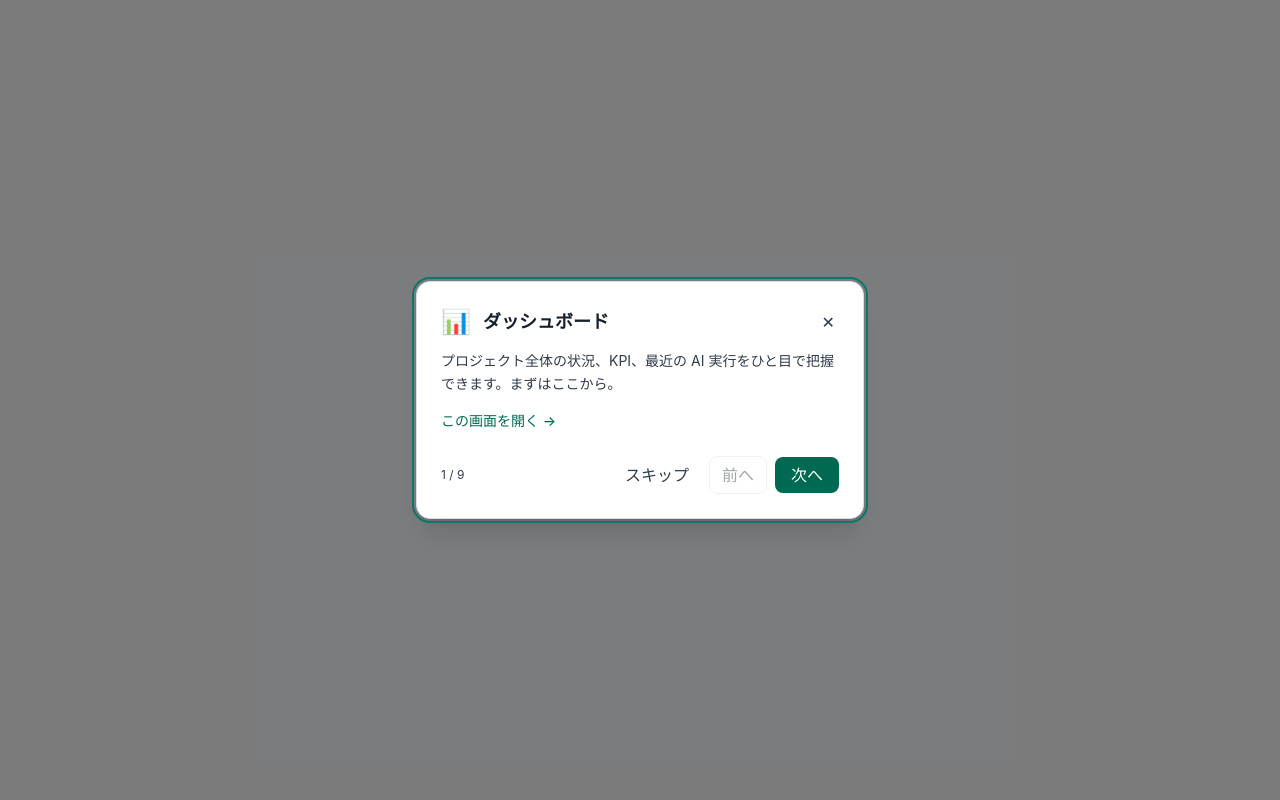
Test case: FeatureTour › 次へ/前へでステップを移動する
This screenshot has width=1280, height=800.
Click the button "次へ".
click(807, 475)  # box [775,457,839,493]
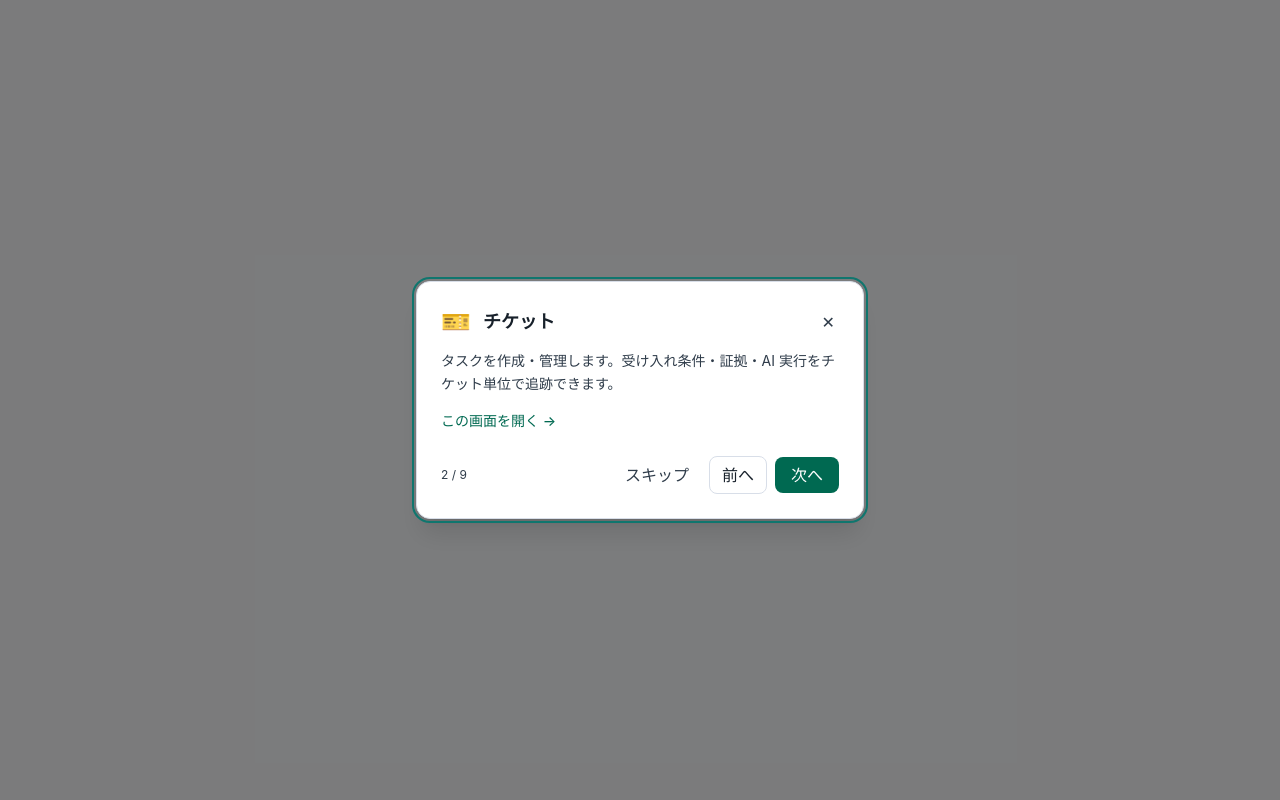
Check: the heading "チケット" is shown, box [483,308,555,336]
Click the button "前へ".
click(738, 475)  # box [709,456,767,494]
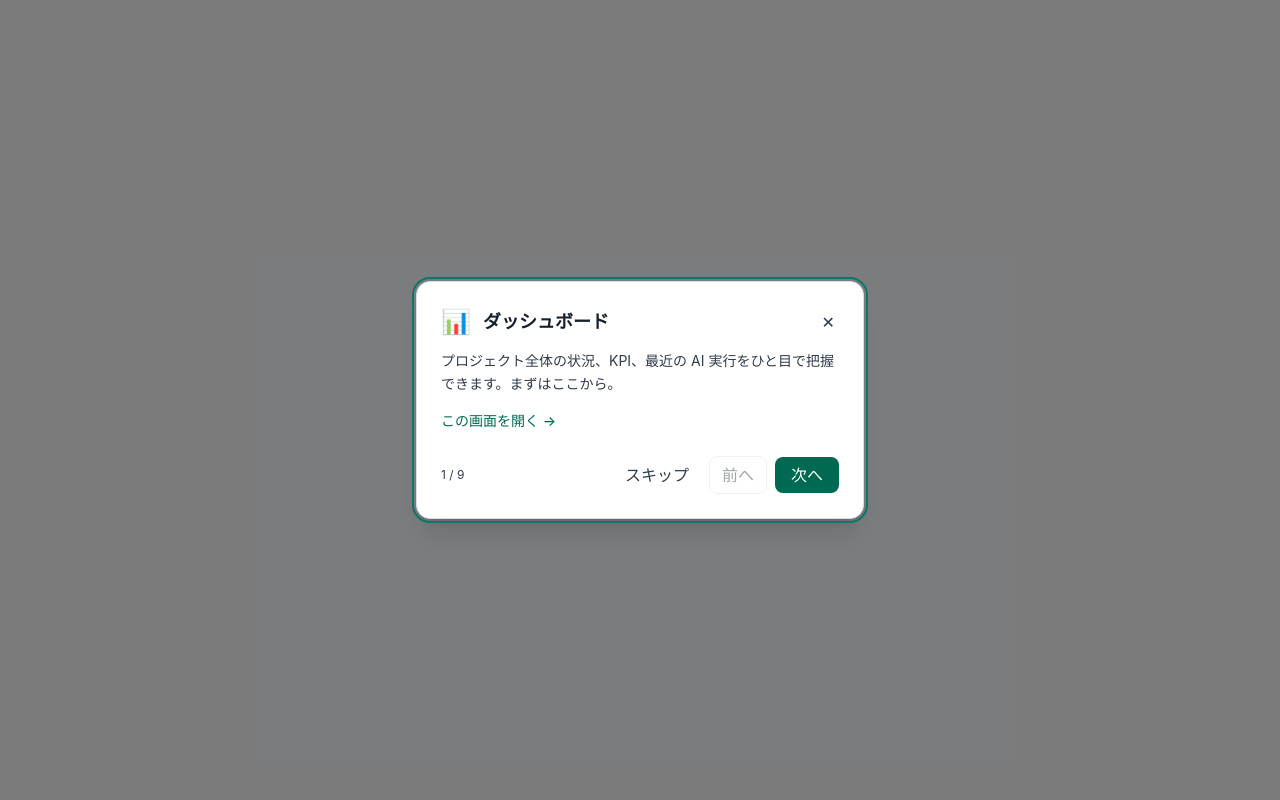
Check: the heading "ダッシュボード" is shown, box [483,308,609,336]
